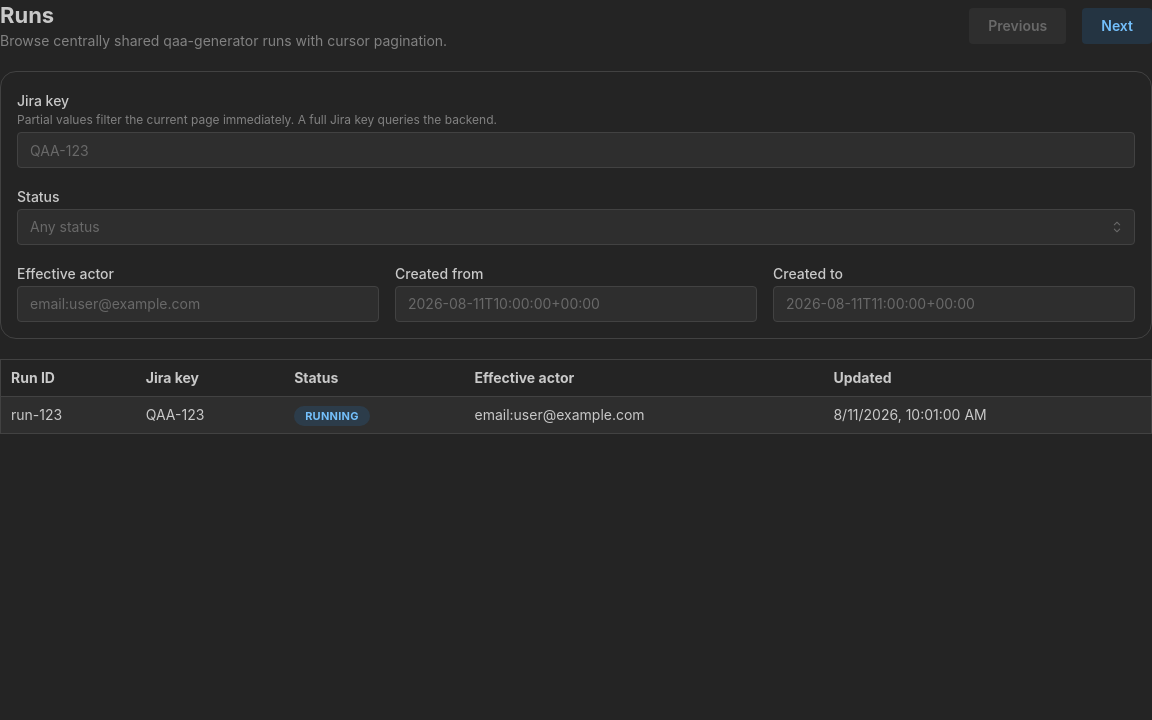
Test: RunsPanel › waits for a terminal status before requesting artifacts
The width and height of the screenshot is (1152, 720).
Click the text "run-123": (37,414) [0,396,136,433]
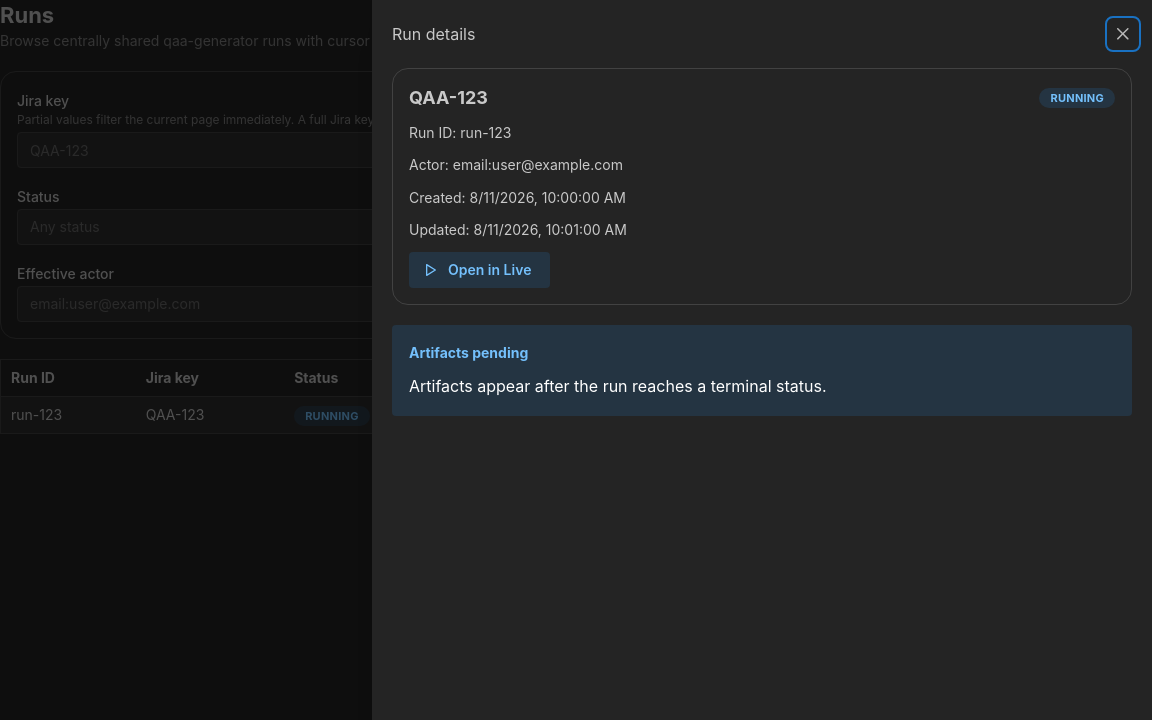
Check: the text "Artifacts pending" is shown, box [409,342,528,364]
Check: the text "Artifacts appear after the run reaches a terminal status." is shown, box [409,376,826,396]
